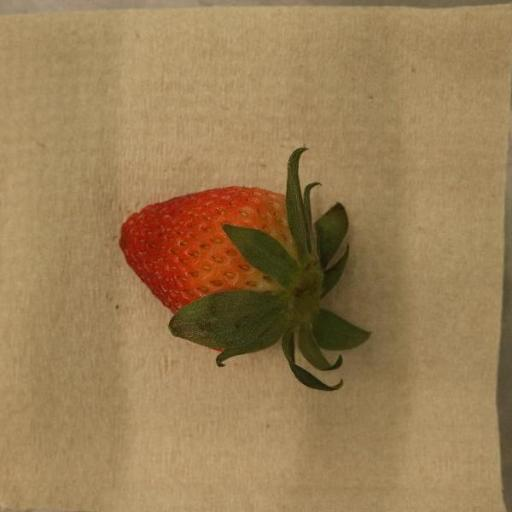Strawberry: (118, 148, 371, 393)
